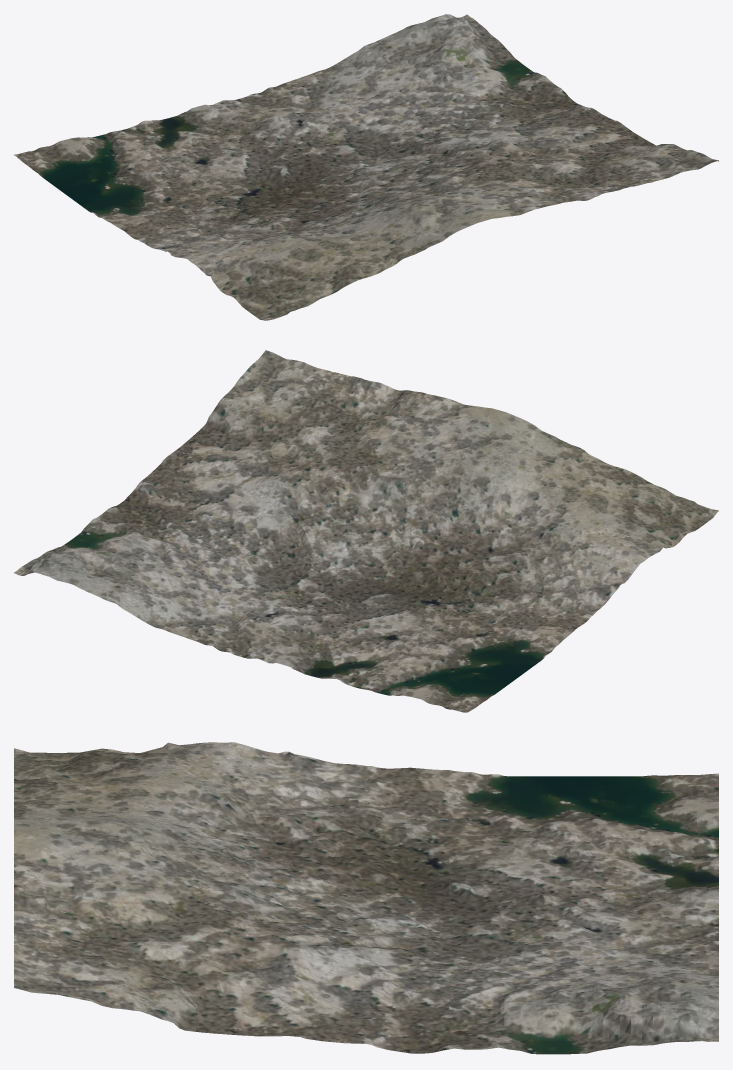
3 views of the same model, one above another, from view 1: azimuth 30°, elevation 25°; view 2: azimuth 150°, elevation 25°; view 3: azimuth 270°, elevation 25° (orthographic). The views are drawn at different scales.
Size of the model in its own units: 500 by 74.77 by 481.
1 material, 1 textured.
